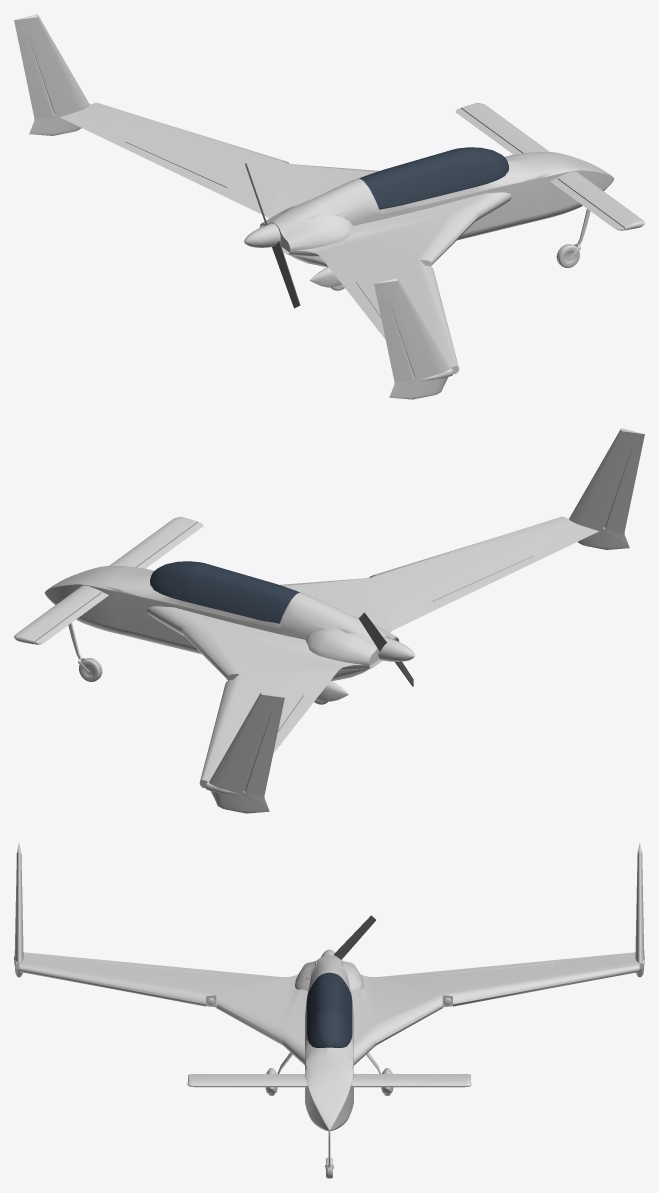
File: lgez.glb
3 views of the same model, one above another, from view 1: azimuth 30°, elevation 25°; view 2: azimuth 150°, elevation 25°; view 3: azimuth 270°, elevation 25° (orthographic). The views are drawn at different scales.
Parts seen in each view (by area): view 1: body, glass, spin; view 2: body, glass, spin; view 3: body, glass.
Boxes of the visible parts, bbox=[...] form: body: bbox=[14, 14, 644, 399]; glass: bbox=[359, 147, 508, 209]; spin: bbox=[245, 163, 300, 308]; body: bbox=[14, 428, 644, 813]; glass: bbox=[150, 561, 299, 623]; spin: bbox=[358, 612, 413, 686]; body: bbox=[14, 842, 644, 1178]; glass: bbox=[306, 972, 352, 1047].
Size of the model in its own units: 1.46 by 0.6844 by 2.2.
